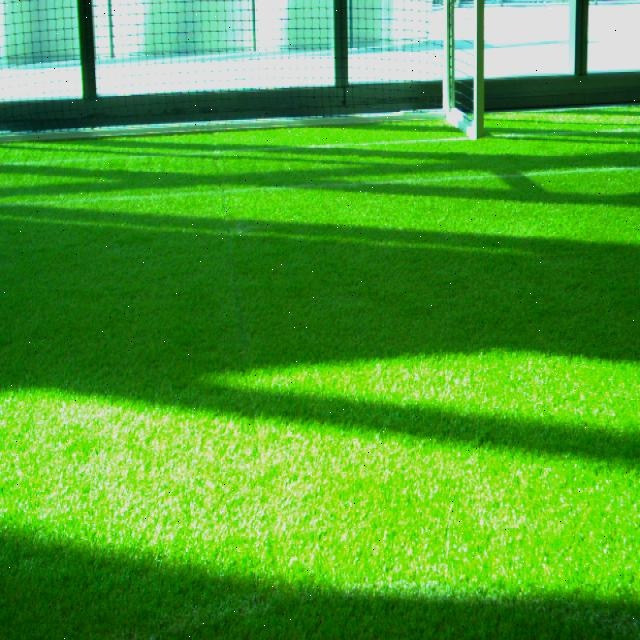goalpost: (472, 1, 486, 144)
